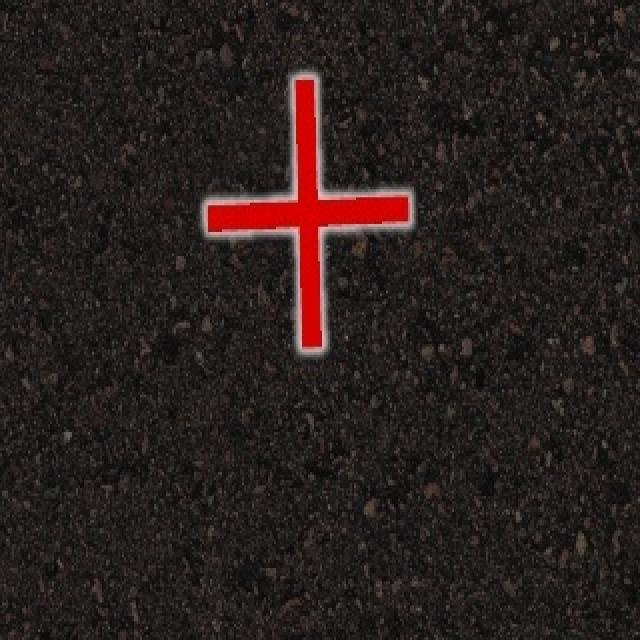x_marker: (205, 76, 409, 348)
